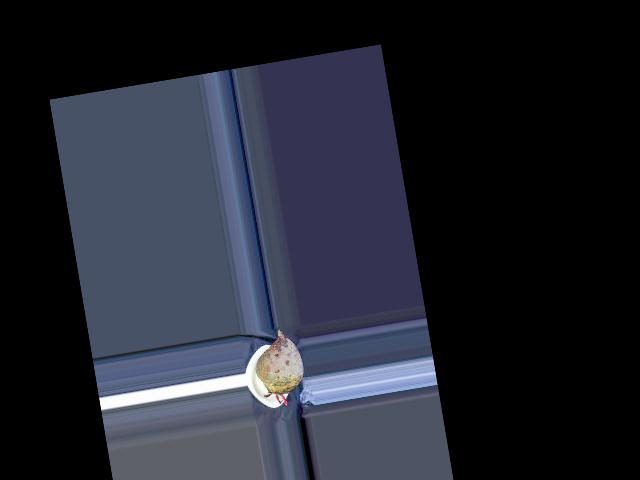beet: (250, 328, 308, 409)
